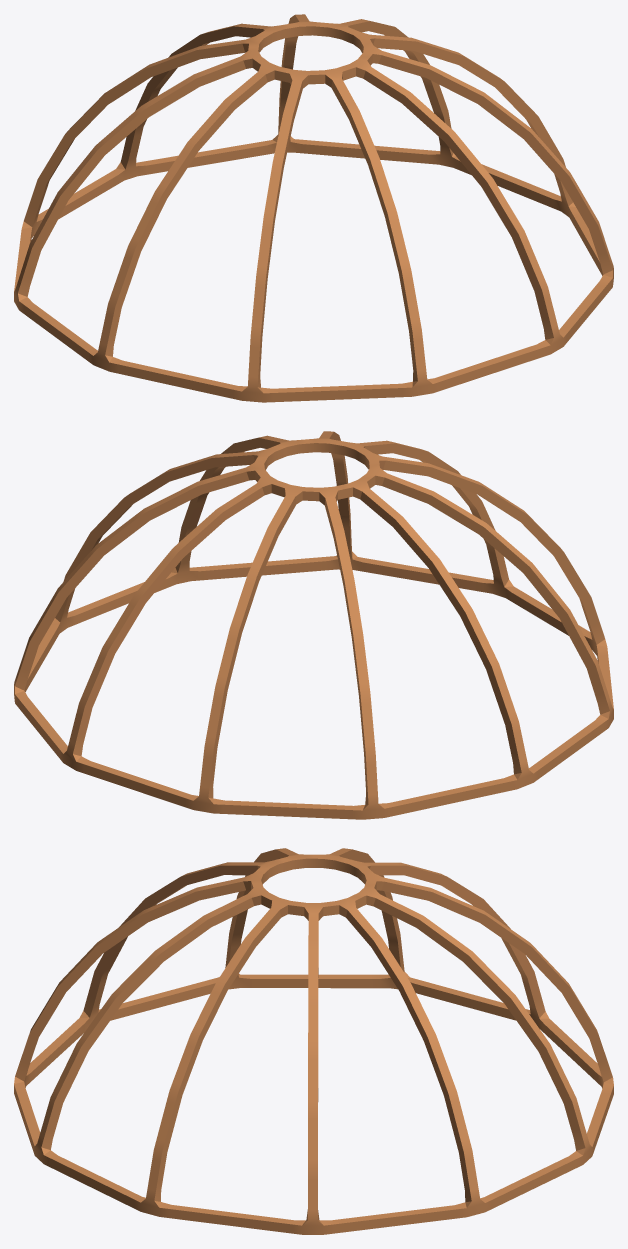
Rendered from Kopula2.fbx.
The picture shows the model from 3 angles, top to bottom: view 1: azimuth 30°, elevation 25°; view 2: azimuth 150°, elevation 25°; view 3: azimuth 270°, elevation 25°; orthographic projection.
Parts seen in each view (by area): view 1: Kopuła2.001; view 2: Kopuła2.001; view 3: Kopuła2.001.
Part boxes in pixels (<box>): Kopuła2.001: <box>14,14,613,402</box>; Kopuła2.001: <box>14,431,613,819</box>; Kopuła2.001: <box>14,848,613,1234</box>.
Size of the model in its own units: 13.74 by 5.78 by 13.87.
